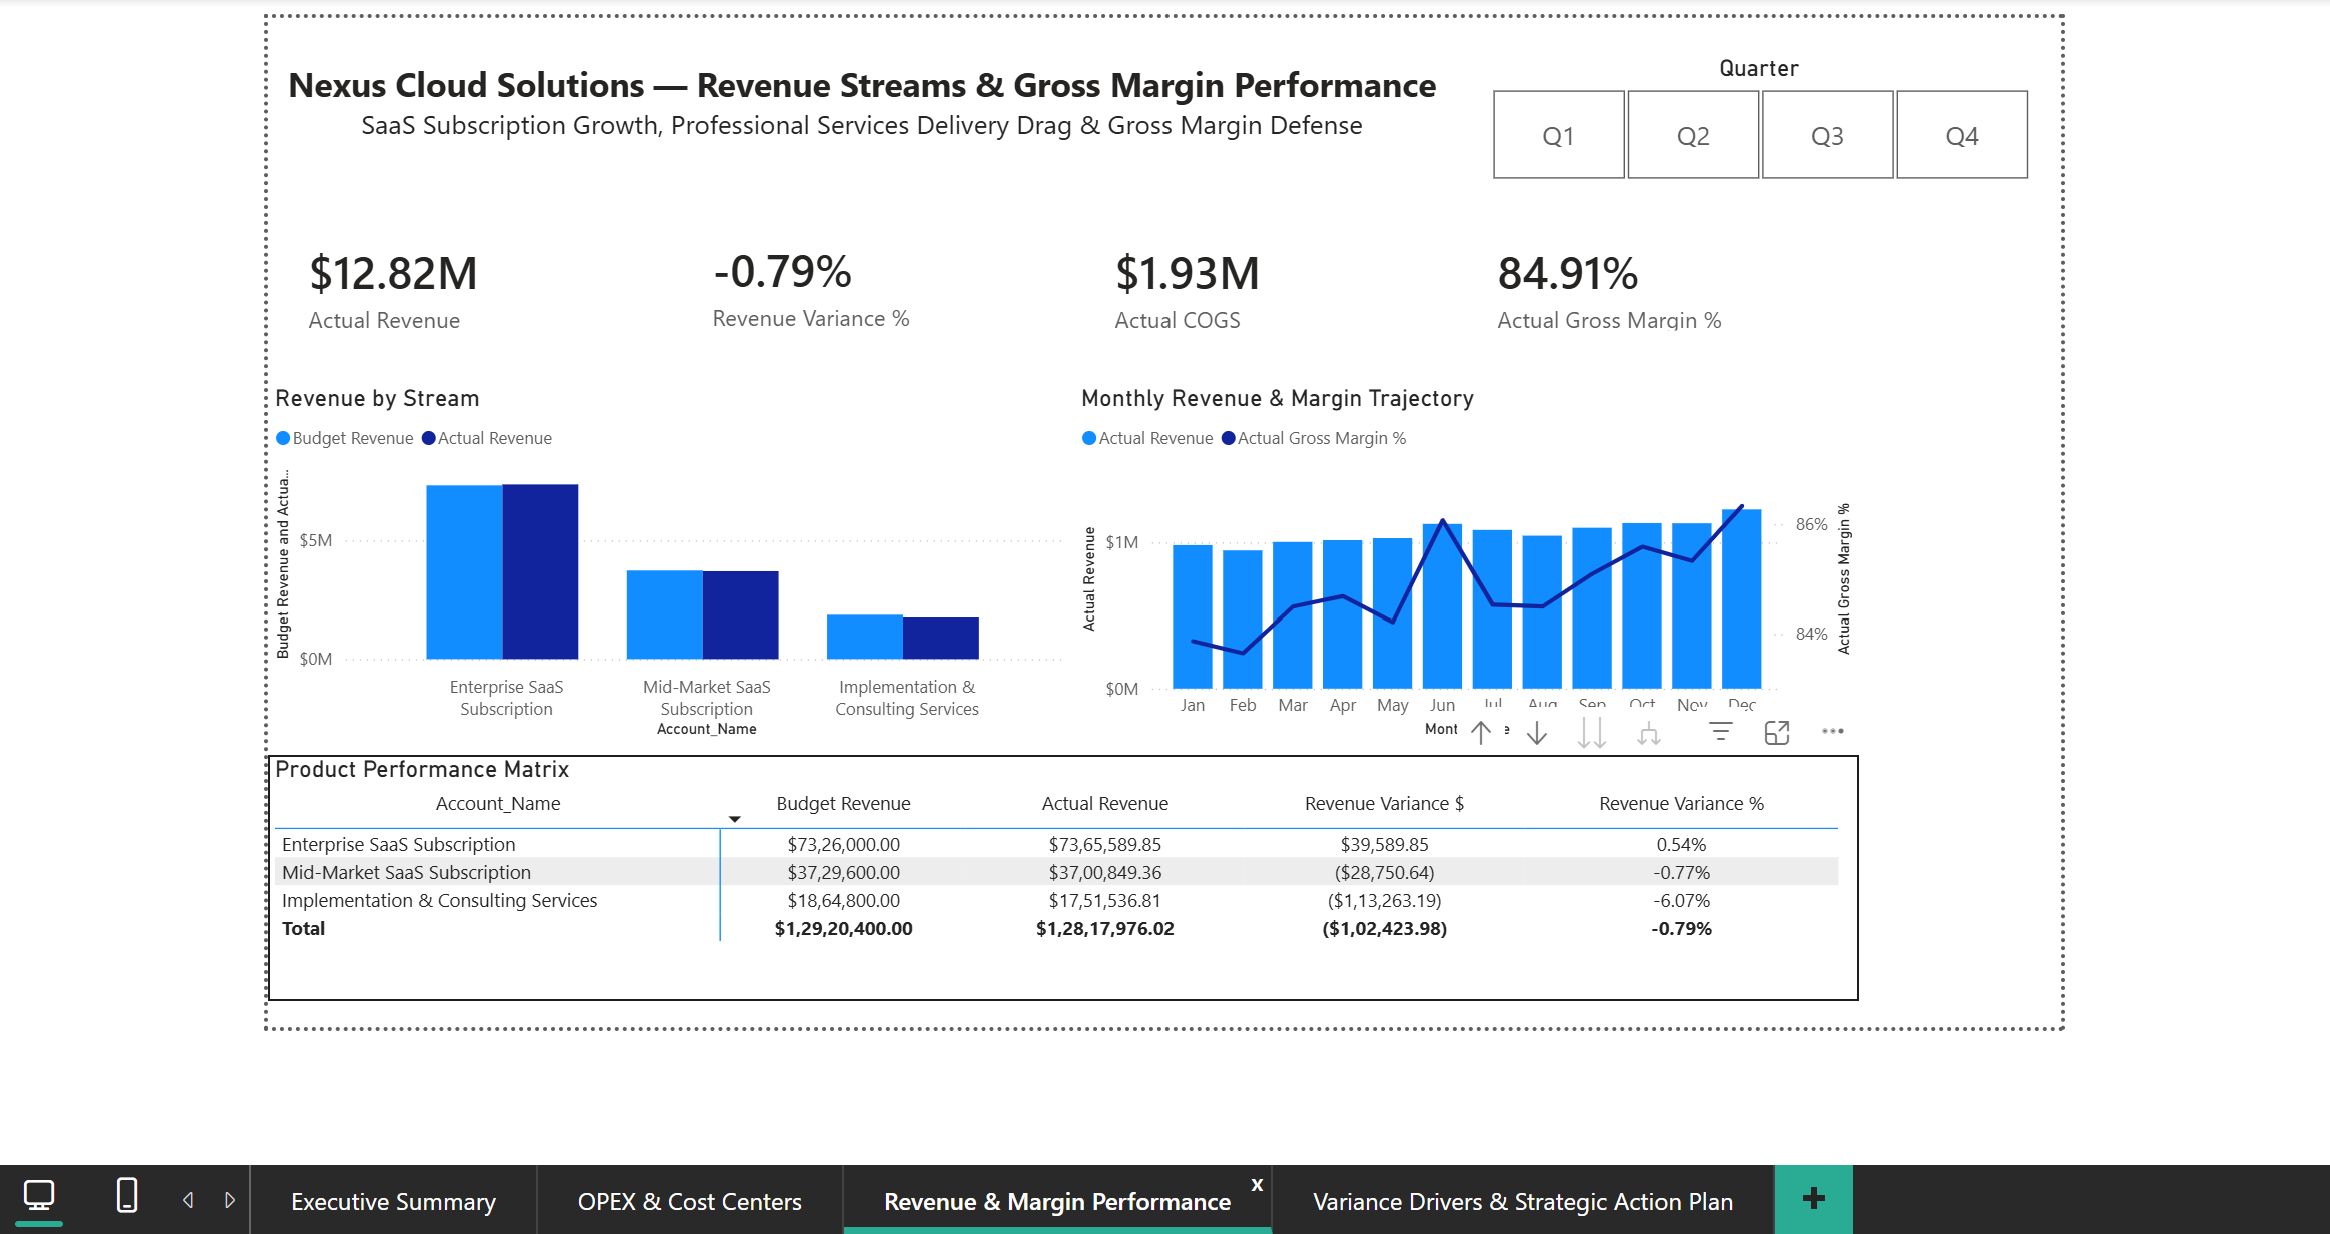

The page's visual inventory and layout, read from the dashboard file:
{"tool":"powerbi","page":{"name":"Revenue & Margin Performance","canvas":[1280,720],"ordinal":2},"visuals":[{"type":"textbox","box":[0,26,848,96],"z":0},{"type":"slicer","title":"Quarter","fields":{"Values":["Dim_Date.Quarter"]},"box":[848,26,432,96],"z":1000},{"type":"cardVisual","fields":{"Data":["_Measures.Actual Gross Margin %"]},"box":[848,144,288,96],"z":2000},{"type":"cardVisual","fields":{"Data":["_Measures.Actual COGS"]},"box":[576,144,272,96],"z":3000},{"type":"cardVisual","fields":{"Data":["_Measures.Revenue Variance %"]},"box":[288.3,143.3,288.3,96.7],"z":4000},{"type":"cardVisual","fields":{"Data":["_Measures.Actual Revenue"]},"box":[0,144,288,96],"z":5000},{"type":"clusteredColumnChart","title":"Revenue by Stream","fields":{"Category":["Dim_Account.Account_Name"],"Y":["_Measures.Budget Revenue","_Measures.Actual Revenue"]},"box":[0,261,576,256],"z":6000},{"type":"lineClusteredColumnComboChart","title":"Monthly Revenue & Margin Trajectory","fields":{"Category":["Dim_Date.Month Name"],"Y":["_Measures.Actual Revenue"],"Y2":["_Measures.Actual Gross Margin %"]},"box":[576,261,560,256],"z":7000},{"type":"pivotTable","title":"Product Performance Matrix","fields":{"Rows":["Dim_Account.Category","Dim_Account.Account_Name"],"Values":["_Measures.Budget Revenue","_Measures.Actual Revenue","_Measures.Revenue Variance $","_Measures.Revenue Variance %"]},"box":[0,526,1136,176],"z":8000}]}

Visuals, with their boxes on the page's 1280x720 design canvas (x1, y1, x2, y2). These are canvas units, not pixel positions in the 2330x1234 screenshot, which may show the page scaled, cropped or inside an application window:
textbox: 0, 26, 848, 122
"Quarter" slicer: 848, 26, 1280, 122
cardVisual - _Measures.Actual Gross Margin %: 848, 144, 1136, 240
cardVisual - _Measures.Actual COGS: 576, 144, 848, 240
cardVisual - _Measures.Revenue Variance %: 288, 143, 577, 240
cardVisual - _Measures.Actual Revenue: 0, 144, 288, 240
"Revenue by Stream" clusteredColumnChart: 0, 261, 576, 517
"Monthly Revenue & Margin Trajectory" lineClusteredColumnComboChart: 576, 261, 1136, 517
"Product Performance Matrix" pivotTable: 0, 526, 1136, 702
